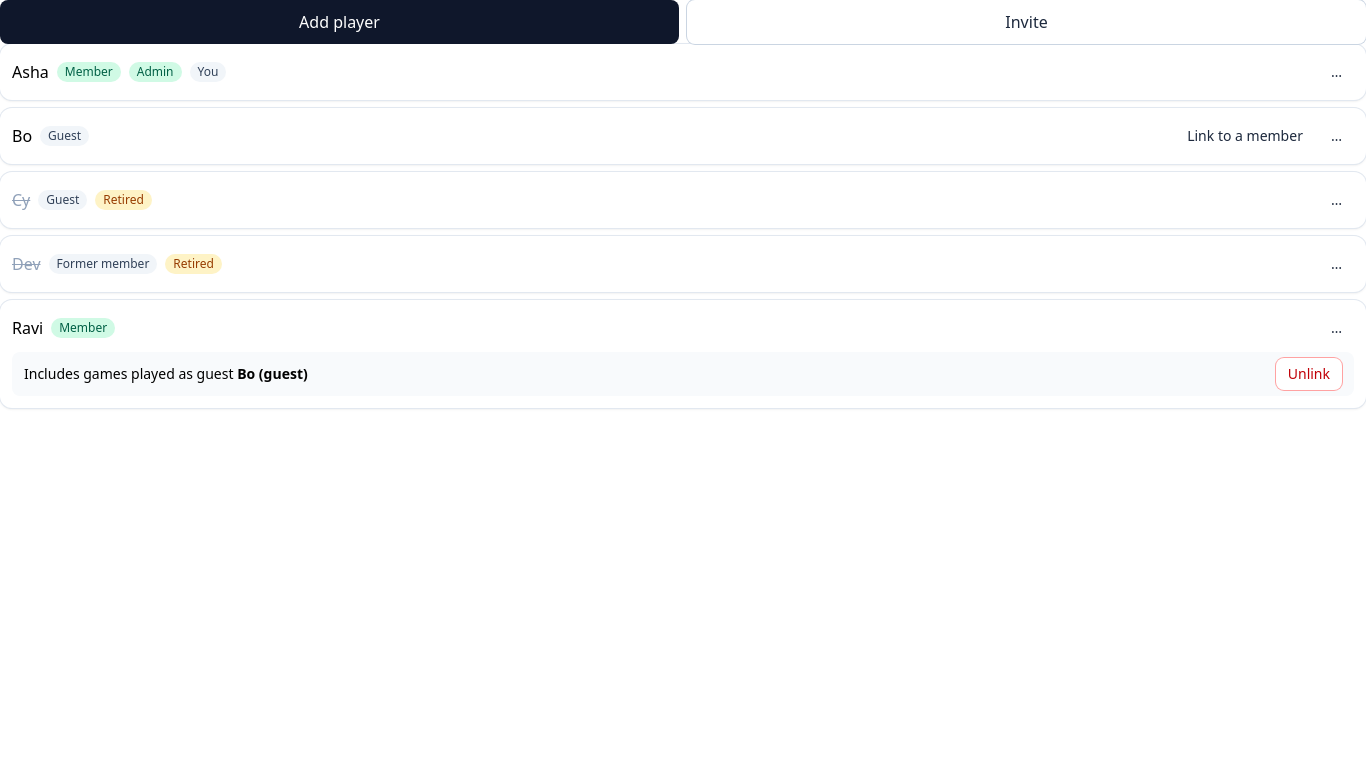
Test: the actions on a row › renames a player
This screenshot has width=1366, height=768.
Step 1. Click the 2nd button "…" → click(1336, 136), box x1=1319 y1=120 x2=1354 y2=152
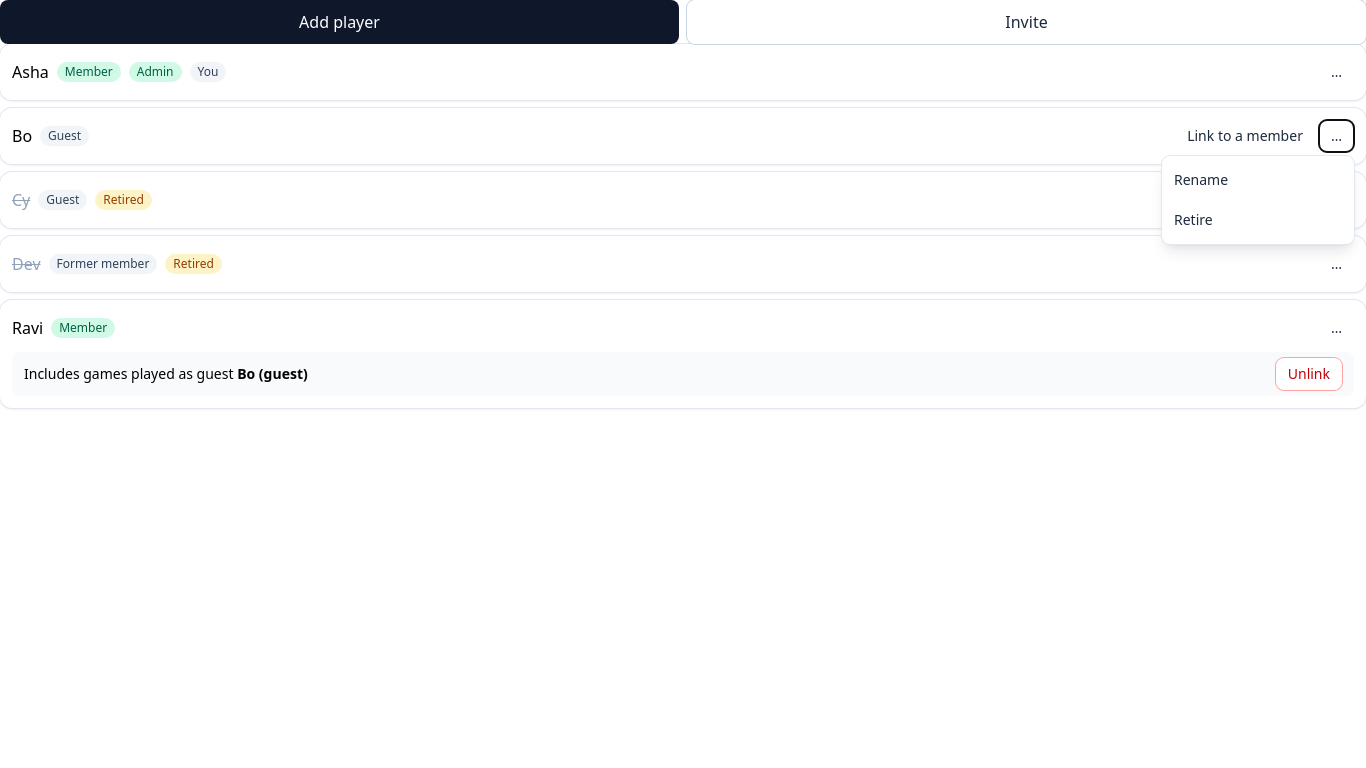
Step 2. Click the menu item "Rename" → click(1258, 180), box x1=1162 y1=160 x2=1354 y2=200
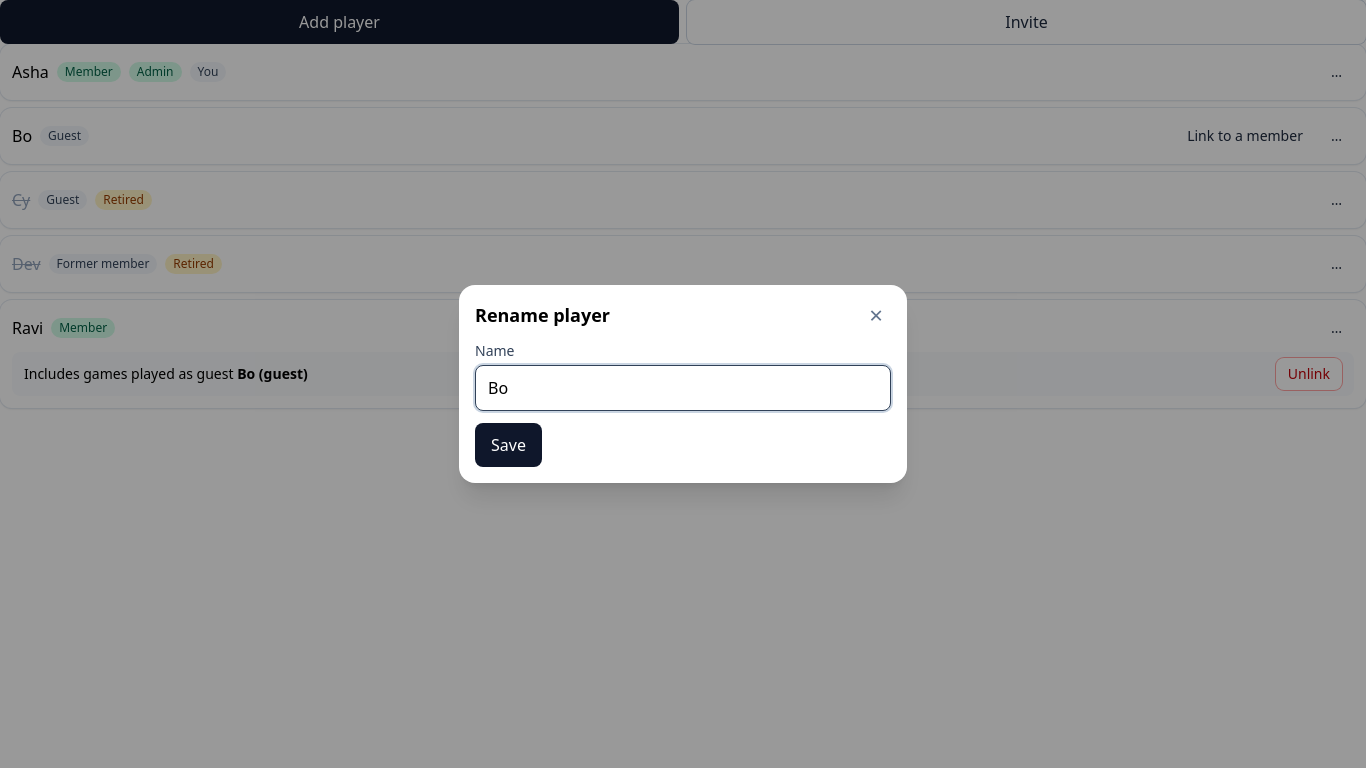
expect the field labelled "Name" holds "Bo": met
Step 3. Replace the text in the field labelled "Name" with "  Bo B  " → (683, 388), box x1=475 y1=365 x2=891 y2=411
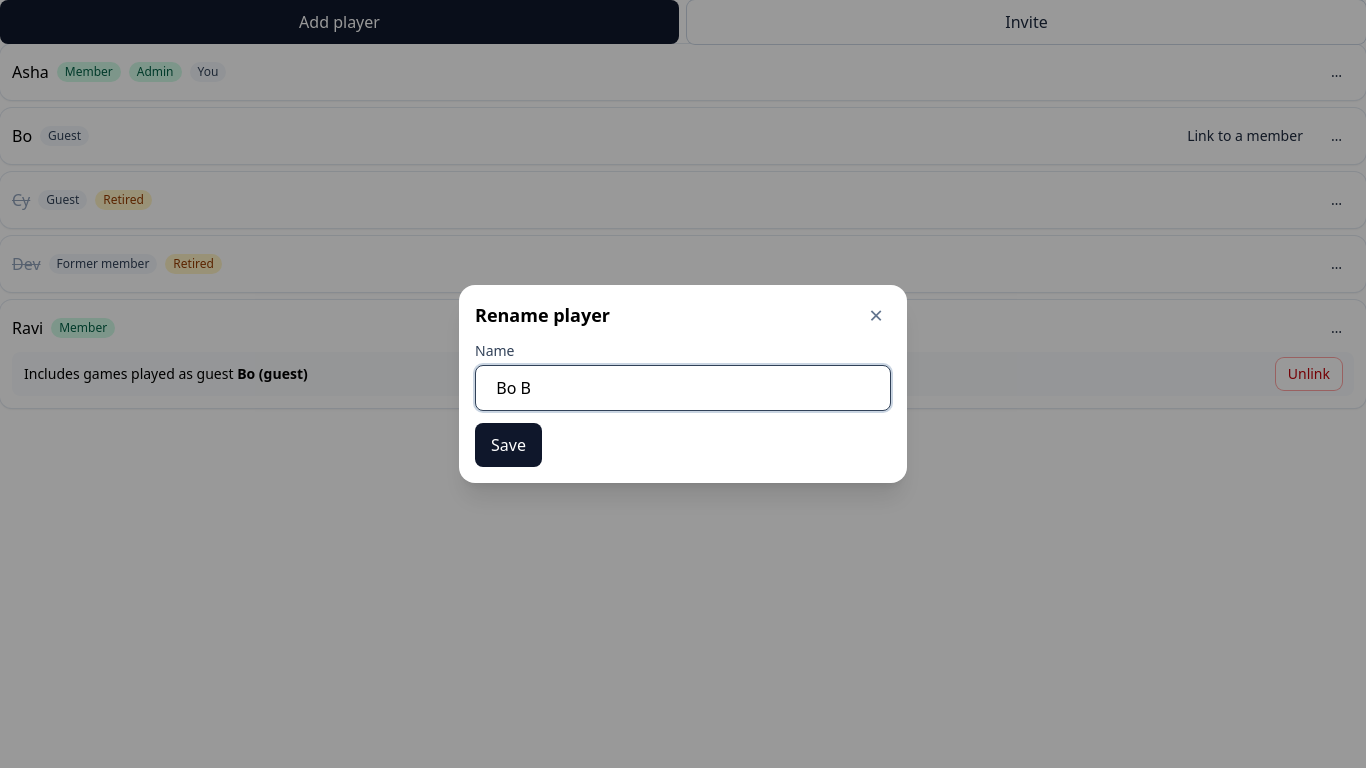
Step 4. Click the button "Save" → click(508, 445), box x1=475 y1=423 x2=542 y2=467
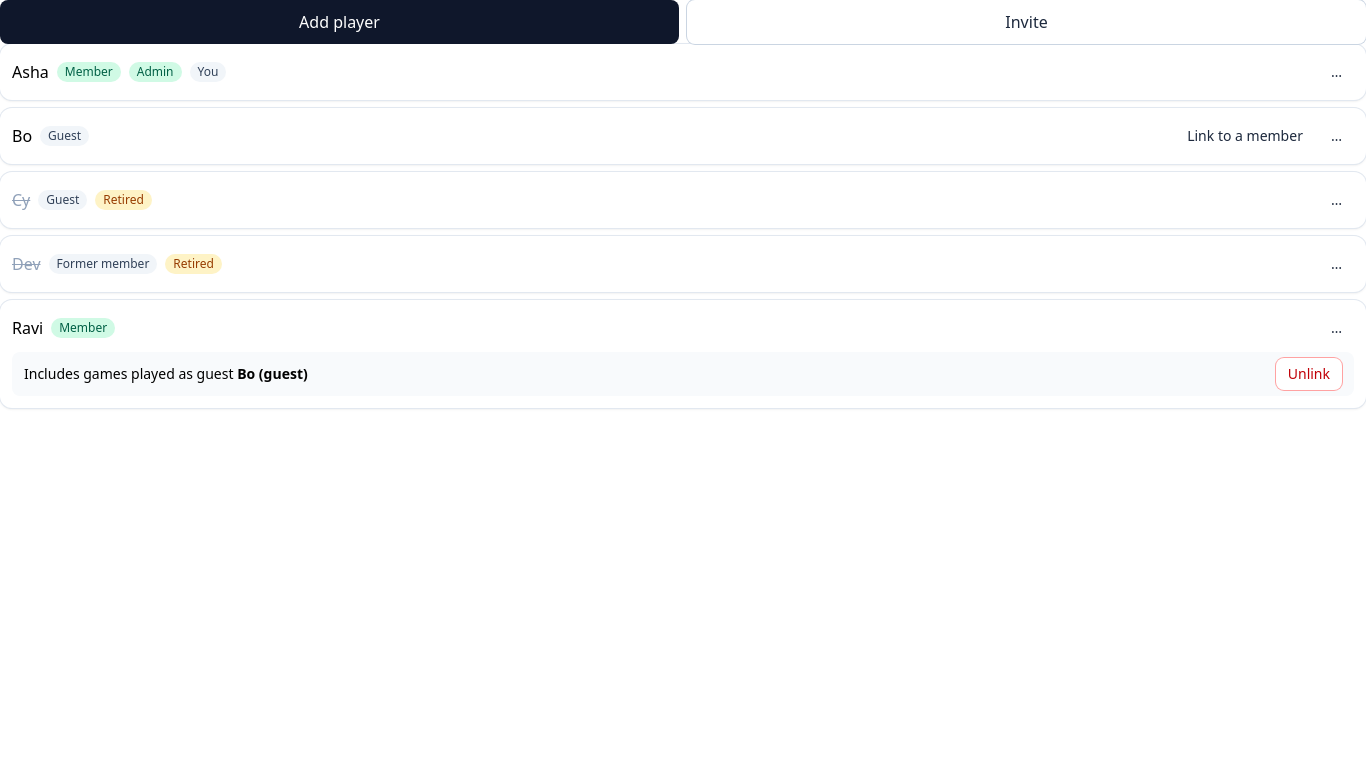
expect the dialog is gone: met
